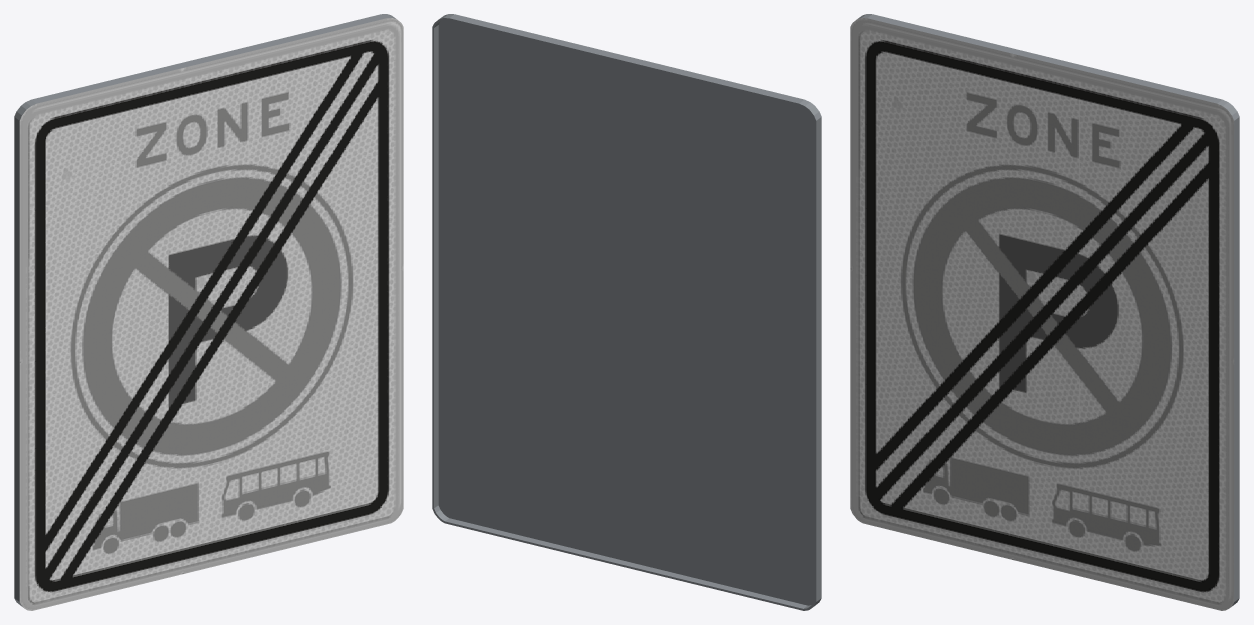
3 renders of one model, left to right at view 1: azimuth 30°, elevation 25°; view 2: azimuth 150°, elevation 25°; view 3: azimuth 330°, elevation 25°, orthographic.
Parts seen in each view (by area): view 1: cat_97bfb9a8c9c383e8; view 2: cat_97bfb9a8c9c383e8; view 3: cat_97bfb9a8c9c383e8.
Part boxes in pixels (bbox=[...]): cat_97bfb9a8c9c383e8: bbox=[14, 14, 403, 610]; cat_97bfb9a8c9c383e8: bbox=[432, 14, 821, 610]; cat_97bfb9a8c9c383e8: bbox=[850, 14, 1239, 610].
Size of the model in its own units: 0.6 by 0.015 by 0.7558.
2 materials, 1 textured.
